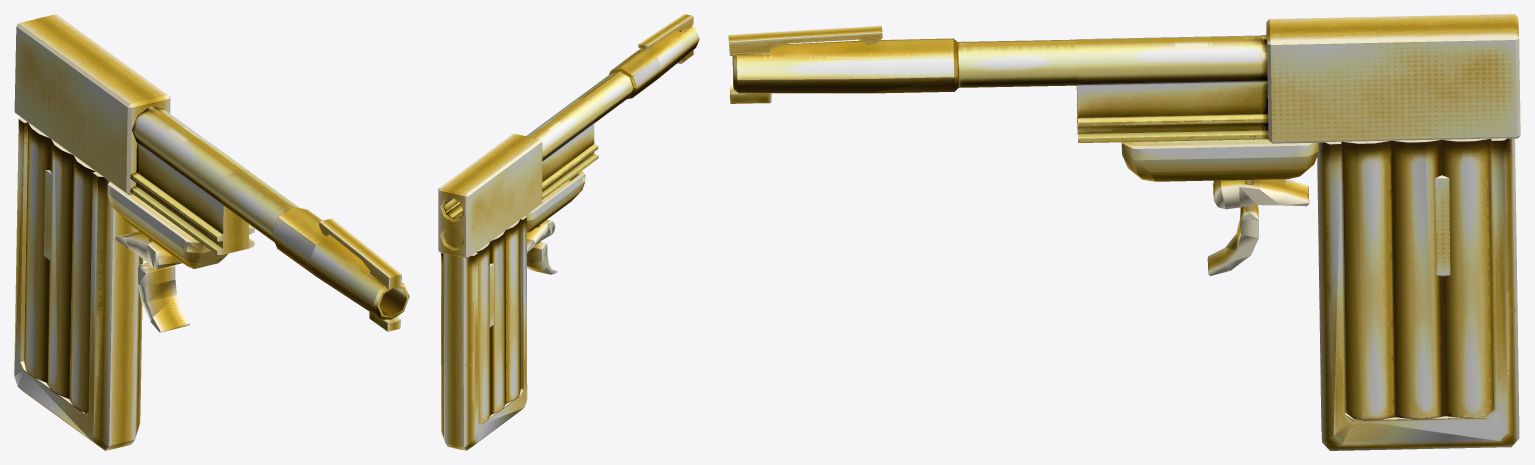
File: Golden Gun.obj
3 views of the same model, side by side, from view 1: azimuth 30°, elevation 25°; view 2: azimuth 150°, elevation 25°; view 3: azimuth 270°, elevation 25° (orthographic). The views are drawn at different scales.
Visible parts, largest first — view 1: Mesh_0045; view 2: Mesh_0045; view 3: Mesh_0045.
Boxes of the visible parts, <box> form: Mesh_0045: <box>14,14,409,450</box>; Mesh_0045: <box>438,14,699,450</box>; Mesh_0045: <box>728,14,1520,450</box>.
Size of the model in its own units: 0.0438 by 0.2681 by 0.4582.
Materials: 6 (6 with a texture image).
